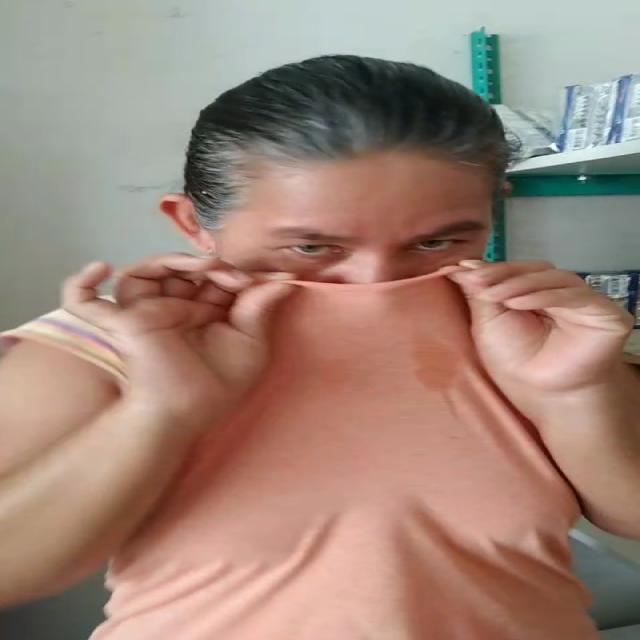8_ropa_rostro: (160, 259, 547, 357)
